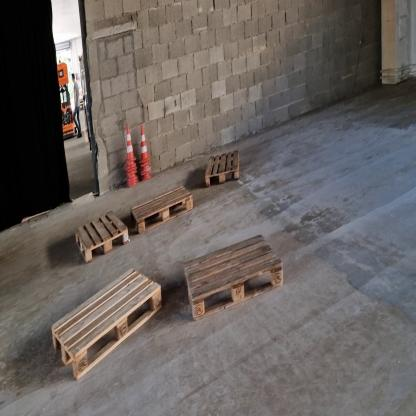BoxFace: (49, 259, 166, 392), (182, 229, 286, 328), (128, 177, 196, 237), (73, 206, 132, 269), (203, 150, 242, 188)
